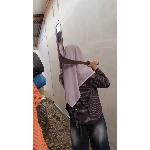Golok: (57, 51, 106, 67)
